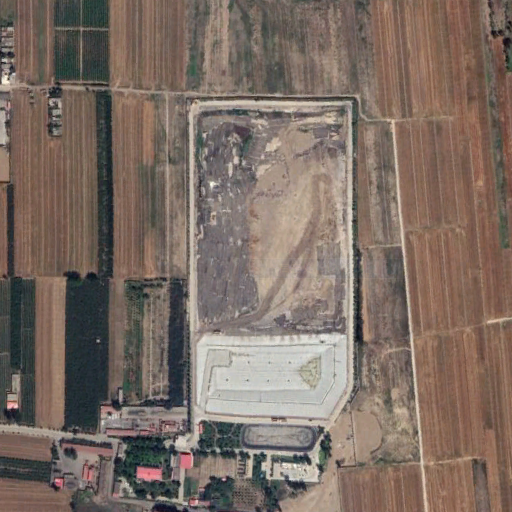lf: (187, 97, 351, 418)
